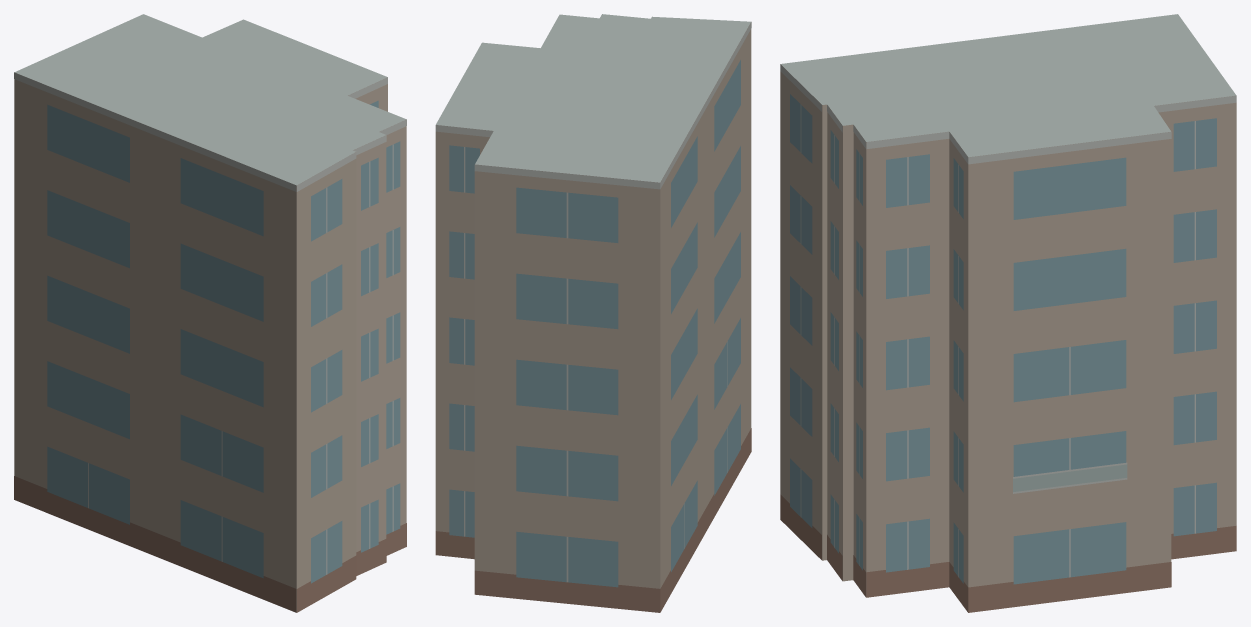
File: survey-upis-32881642.glb
3 renders of one model, left to right at view 1: azimuth 30°, elevation 25°; view 2: azimuth 150°, elevation 25°; view 3: azimuth 270°, elevation 25°, orthographic. The views are drawn at different scales.
Parts seen in each view (by area): view 1: survey-upis-32881642.tmp; view 2: survey-upis-32881642.tmp; view 3: survey-upis-32881642.tmp.
Part boxes in pixels (<box>): survey-upis-32881642.tmp: <box>14,14,406,612</box>; survey-upis-32881642.tmp: <box>435,14,751,612</box>; survey-upis-32881642.tmp: <box>780,14,1236,612</box>.
Bounding box in the file's own units: 10.51 × 15.57 × 14.14.
